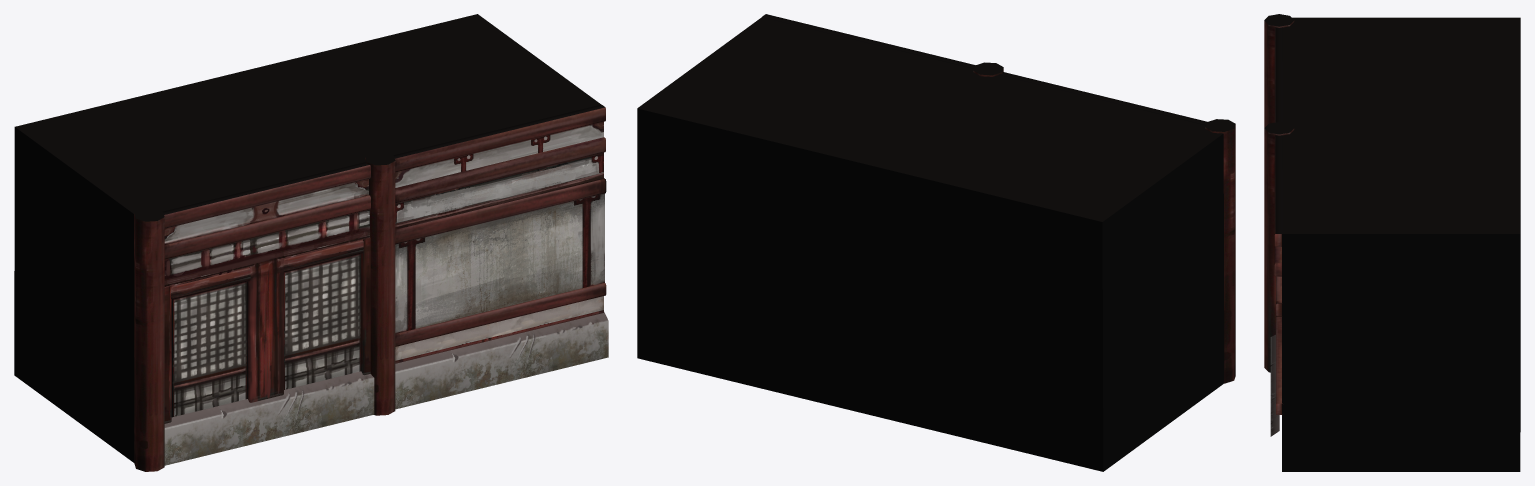
File: STR_WallSimpleMid.FBX
The picture shows the model from 3 angles, left to right: view 1: azimuth 30°, elevation 25°; view 2: azimuth 150°, elevation 25°; view 3: azimuth 270°, elevation 25°; orthographic projection. The views are drawn at different scales.
Parts seen in each view (by area): view 1: STR_WallSimpleMid; view 2: STR_WallSimpleMid; view 3: STR_WallSimpleMid.
Boxes of the visible parts, x1,y1,x2,y2 form: STR_WallSimpleMid: (14, 14, 608, 471); STR_WallSimpleMid: (637, 14, 1235, 471); STR_WallSimpleMid: (1264, 14, 1520, 471).
Bounding box in the file's own units: 607 × 310 × 300.
1 material, 1 textured.
